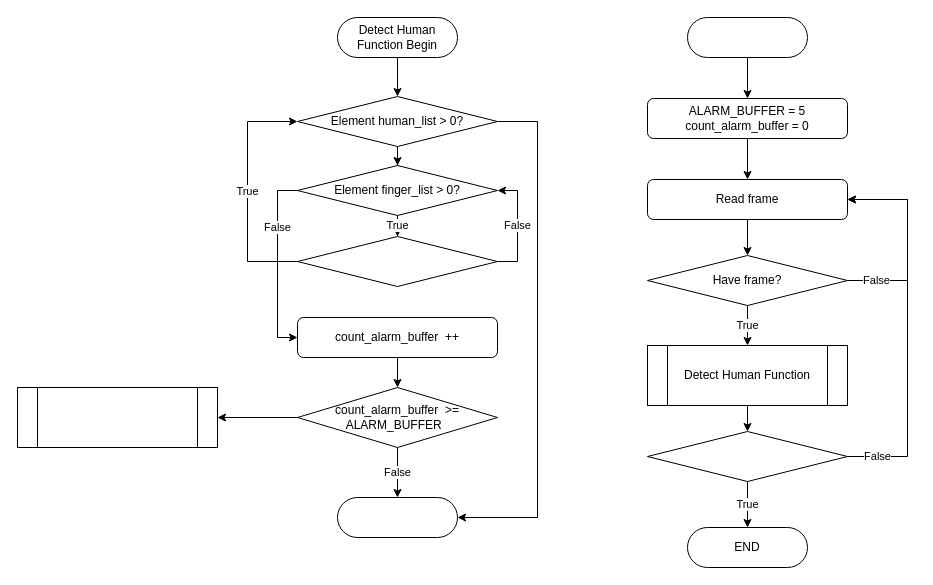
Some shapes in this 933 by 585 pixel diagram are drawn without their labels. The shapes that lost their labels are listed below. From the top down, each one's centre as x and y in pixels, then its label:
[747,37]: BEGIN
[397,261]: finger in Area?
[117,417]: Alarm function
[747,456]: Quit program?
[397,517]: Detect Human Function End
